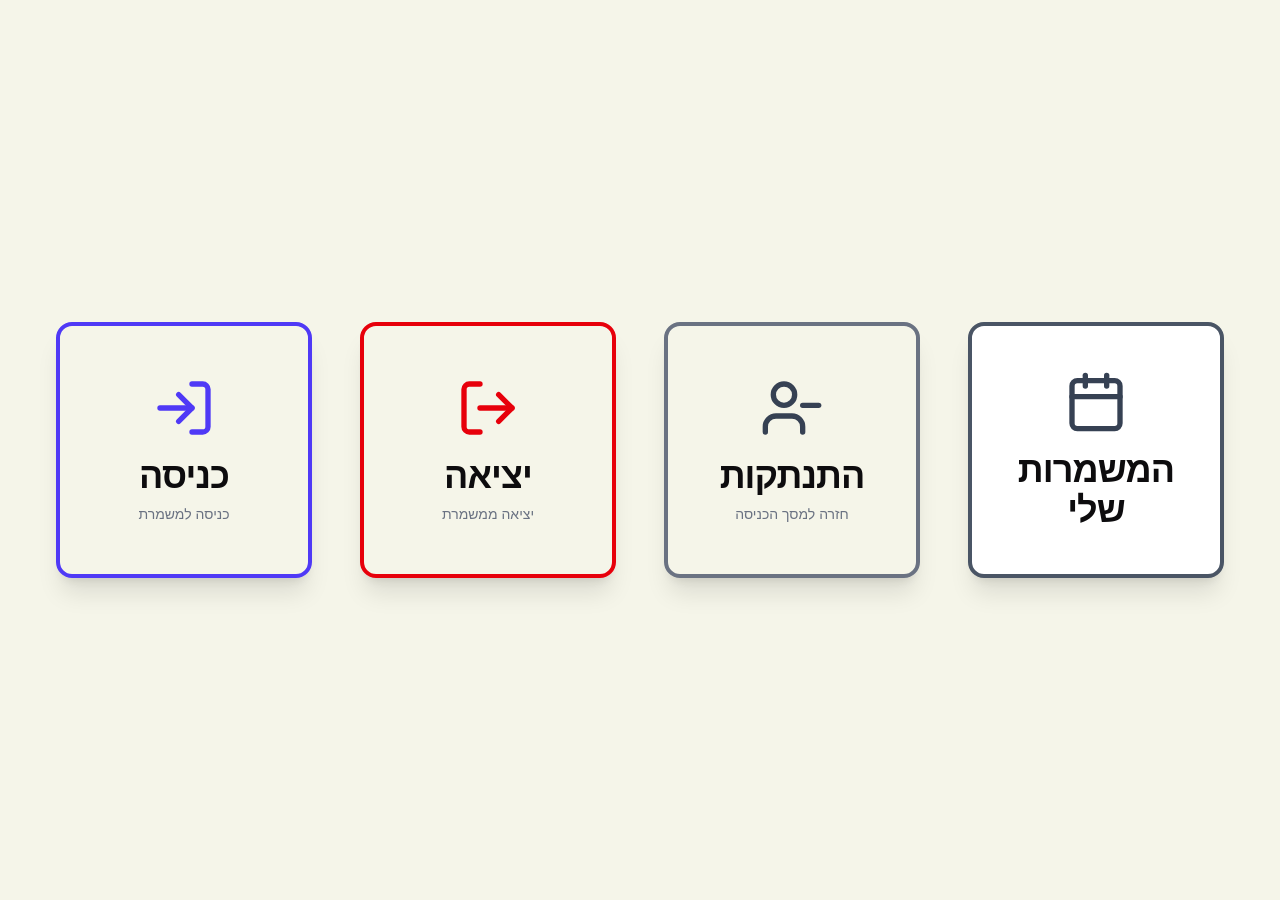
Test case: IntermediatePage (Browser) › Enter Shift: Shows Modal if shift is ALREADY open
Click the heading "כניסה" at (184, 476), box [139,456,229,496]
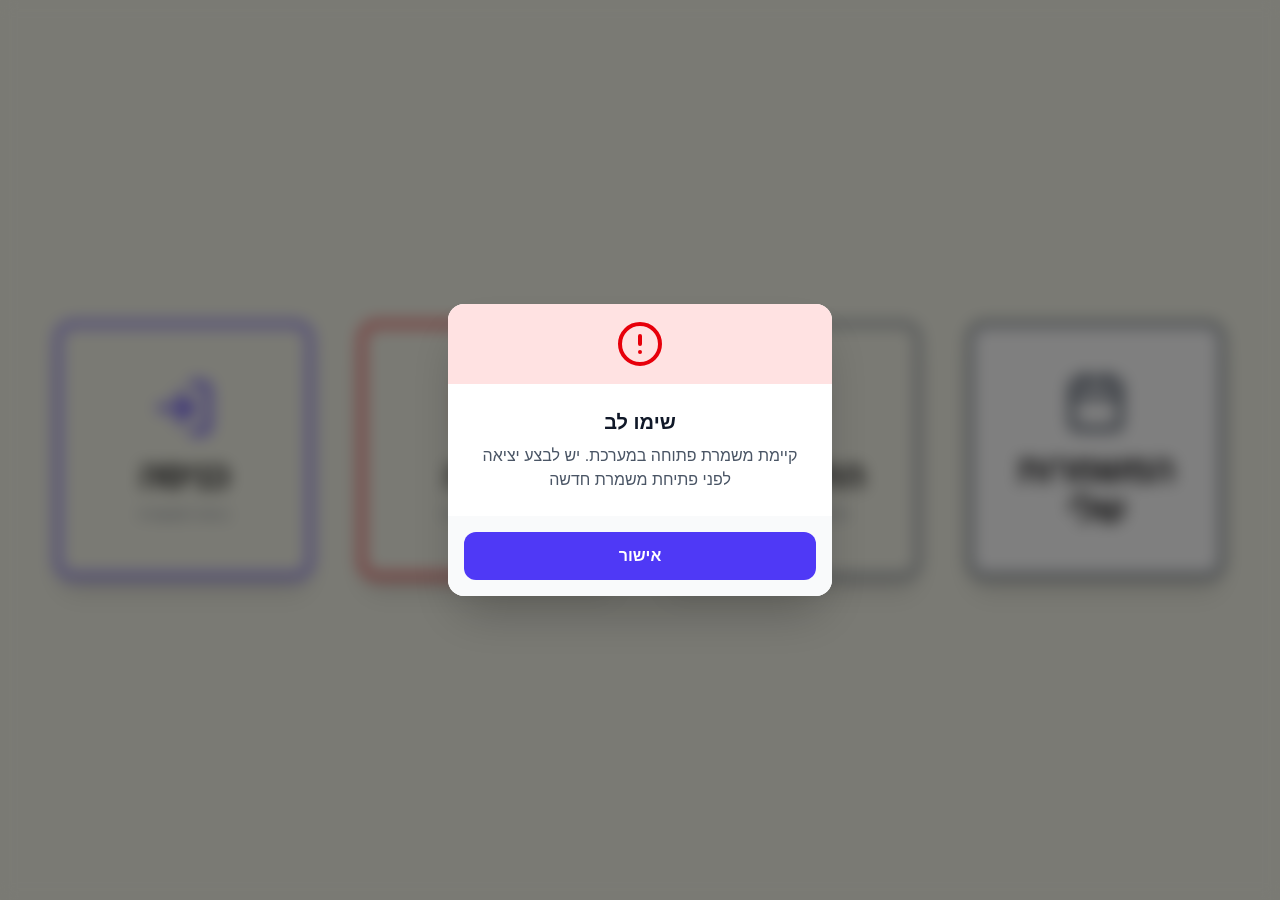
Now the text "קיימת משמרת פתוחה במערכת. יש לבצע יציאה לפני פתיחת משמרת חדשה" is shown, box [472,444,808,492]
